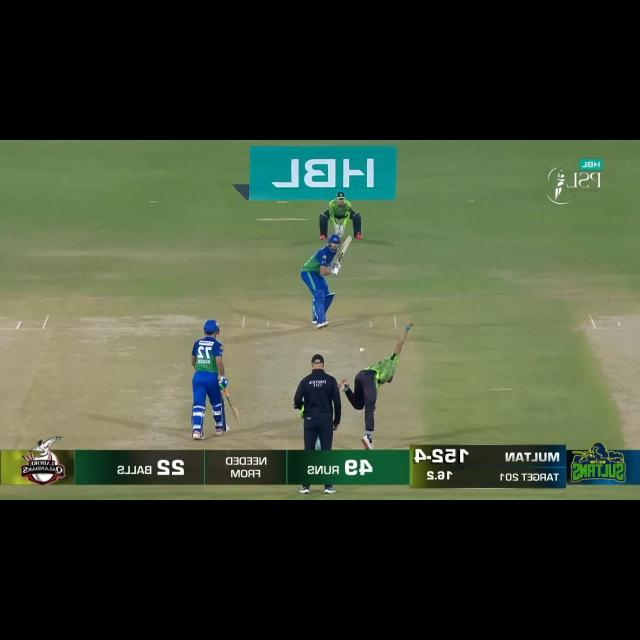bat: (226, 392, 241, 426), (336, 236, 353, 264)
toe: (234, 415, 242, 426), (346, 234, 354, 243)
